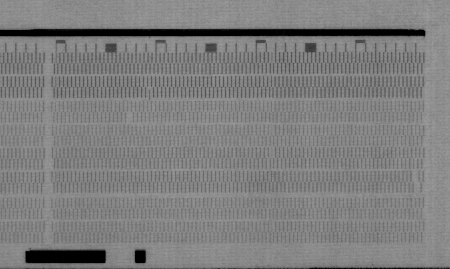Broken hole: (410, 171, 423, 195), (123, 111, 136, 123)
Oblique printing: (144, 86, 157, 101)
